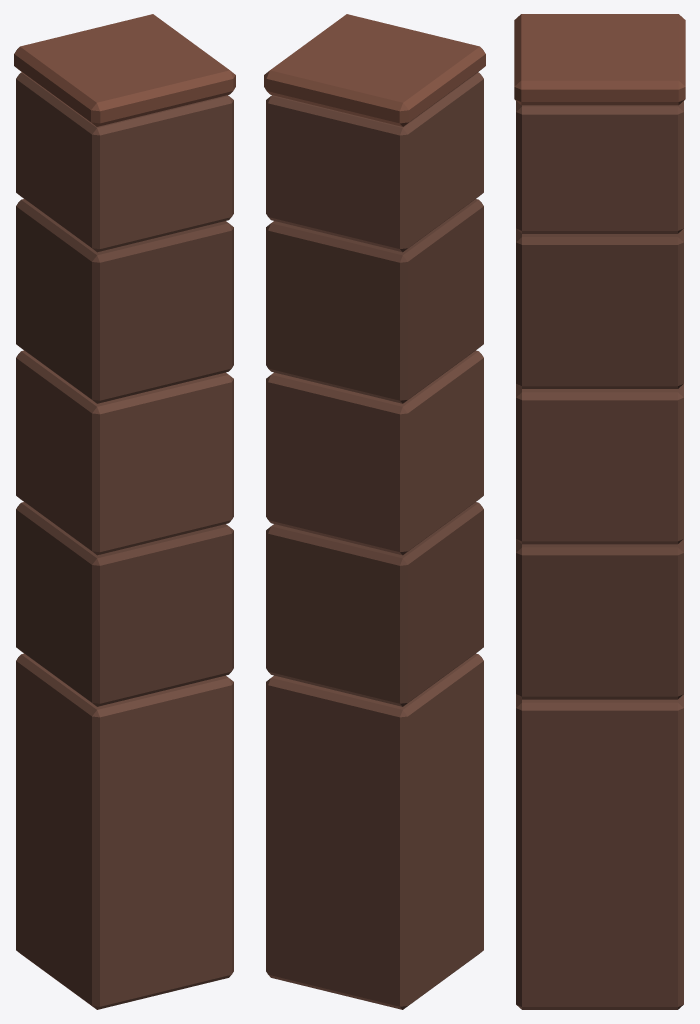
Rendered from column-caldera-5b.glb.
3 views of the same model, side by side, from view 1: azimuth 30°, elevation 25°; view 2: azimuth 150°, elevation 25°; view 3: azimuth 270°, elevation 25° (orthographic). The views are drawn at different scales.
Parts seen in each view (by area): view 1: column-caldera-5b; view 2: column-caldera-5b; view 3: column-caldera-5b.
Boxes of the visible parts, box(x1,y1,x2,y2) form: column-caldera-5b: box(14, 14, 235, 1009); column-caldera-5b: box(264, 14, 485, 1009); column-caldera-5b: box(514, 14, 685, 1009).
Size of the model in its own units: 1 by 5.99 by 1.
